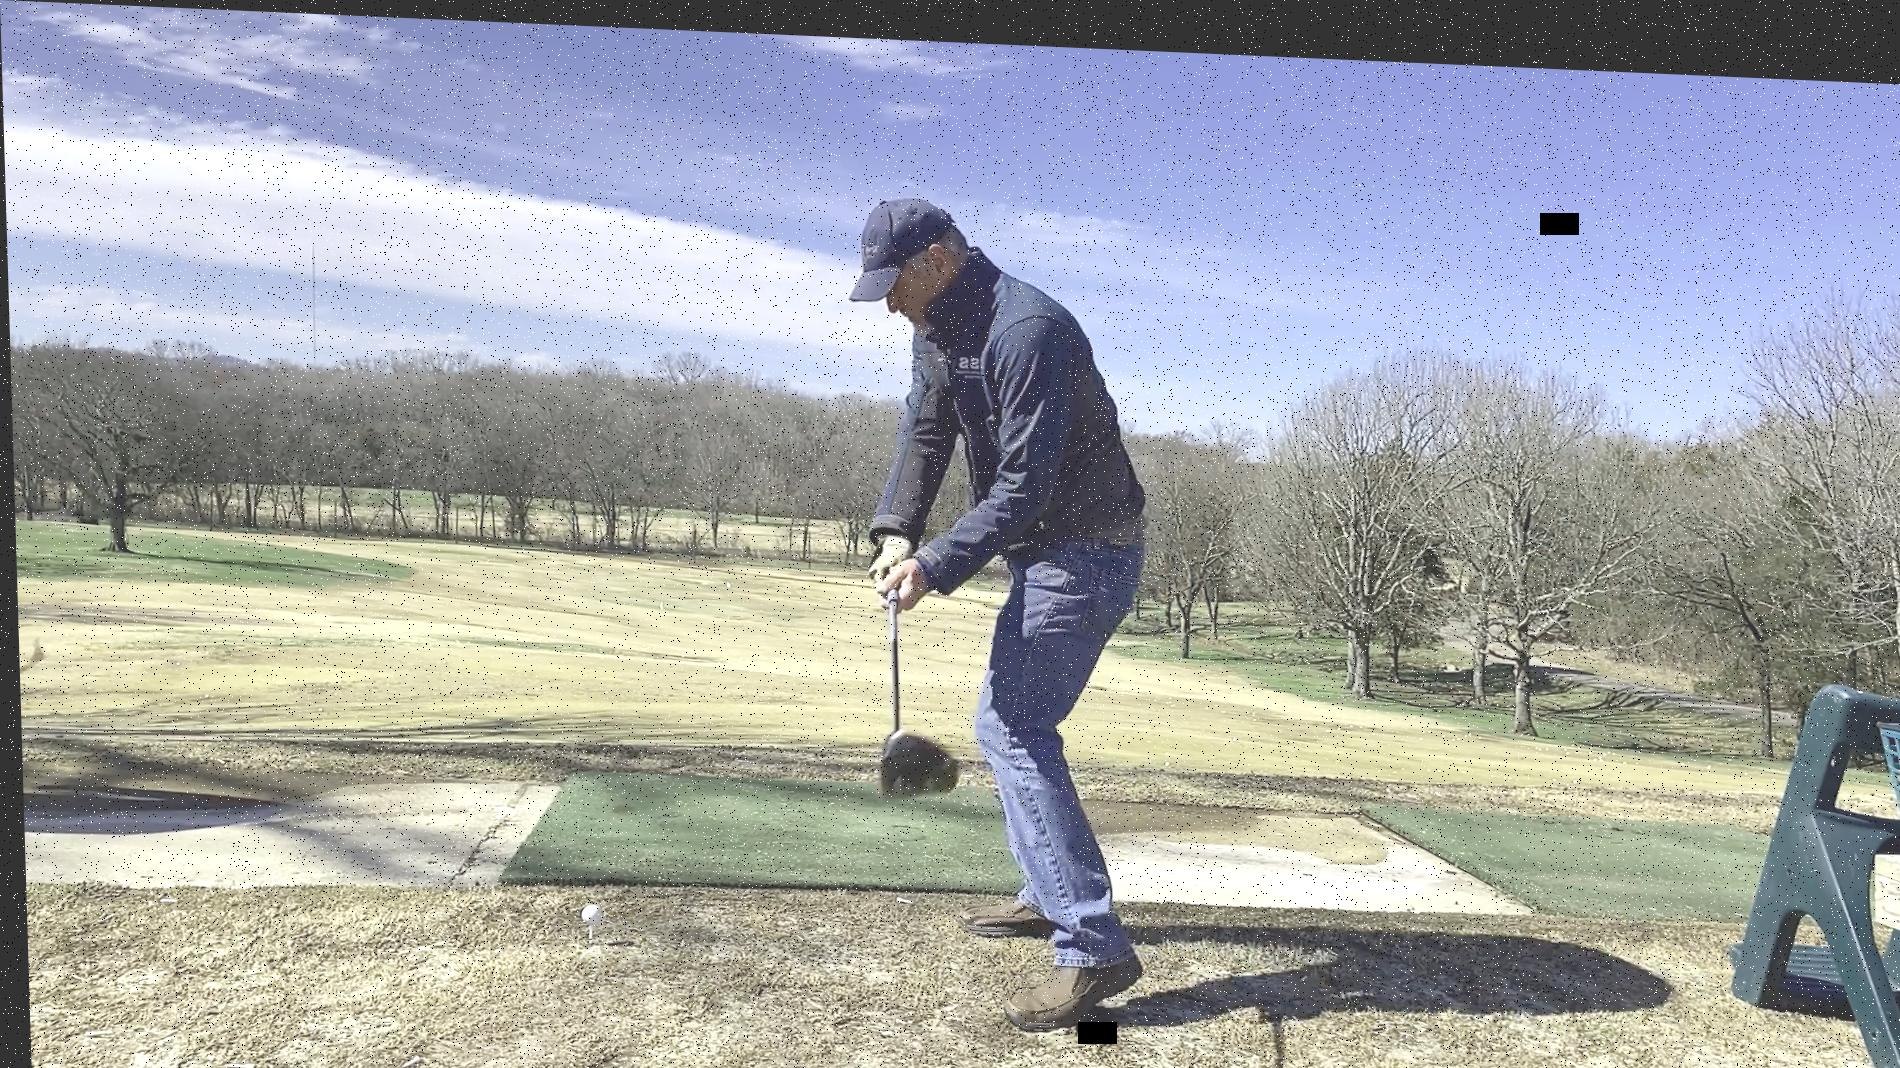ClubHead: (870, 713, 959, 796)
GolfBall: (573, 897, 599, 922)
